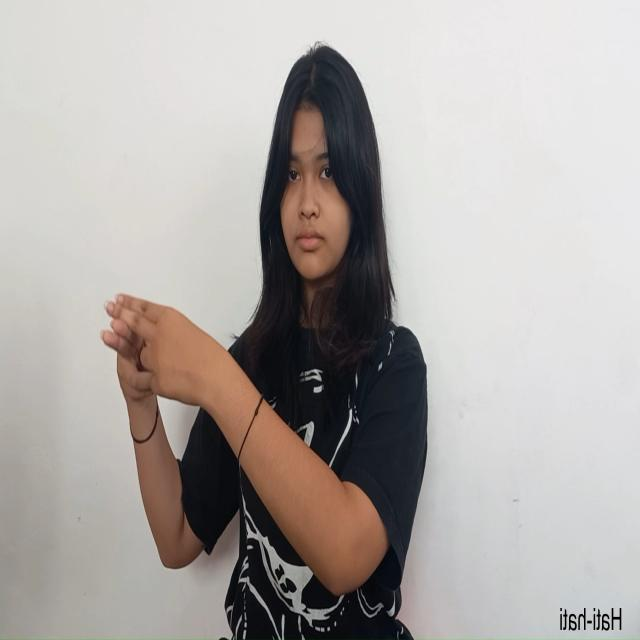Hati-hati -BISINDO-: (99, 293, 219, 406)
